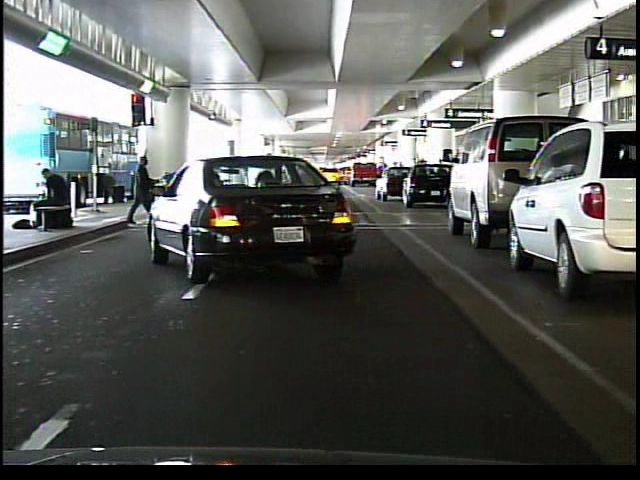person: (34, 164, 72, 236), (128, 150, 157, 231)
